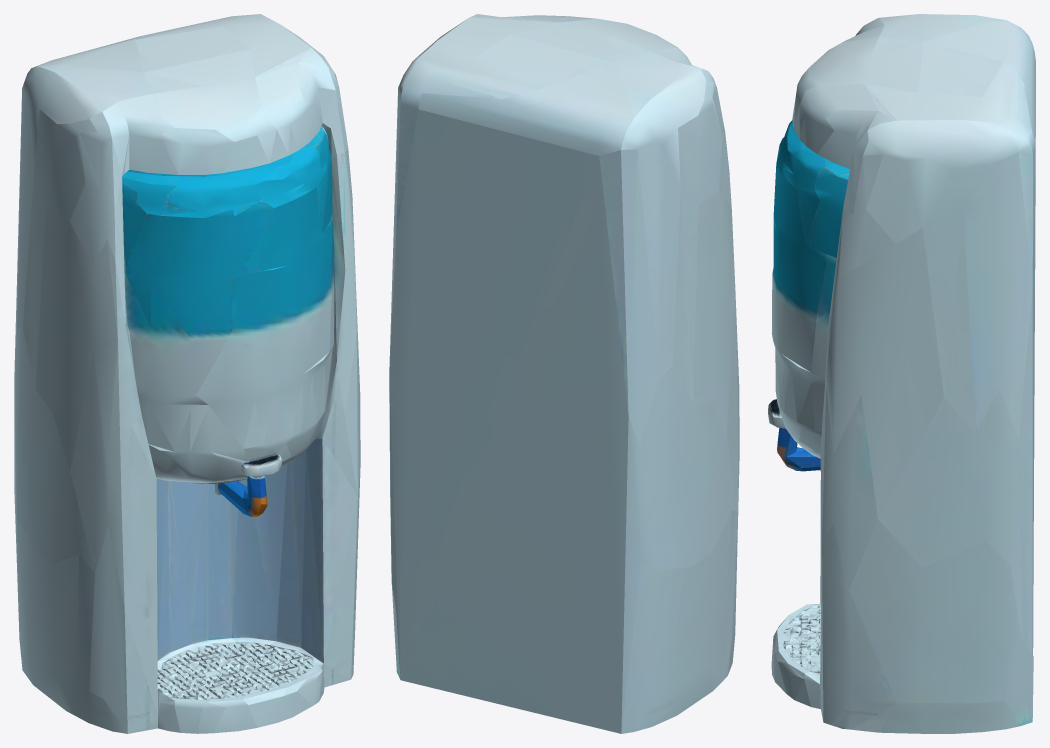
The model's file is cooler.glb.
3 renders of one model, left to right at view 1: azimuth 30°, elevation 25°; view 2: azimuth 150°, elevation 25°; view 3: azimuth 270°, elevation 25°, orthographic.
Size of the model in its own units: 0.9168 by 1.9 by 0.7632.
1 material, 1 textured.
